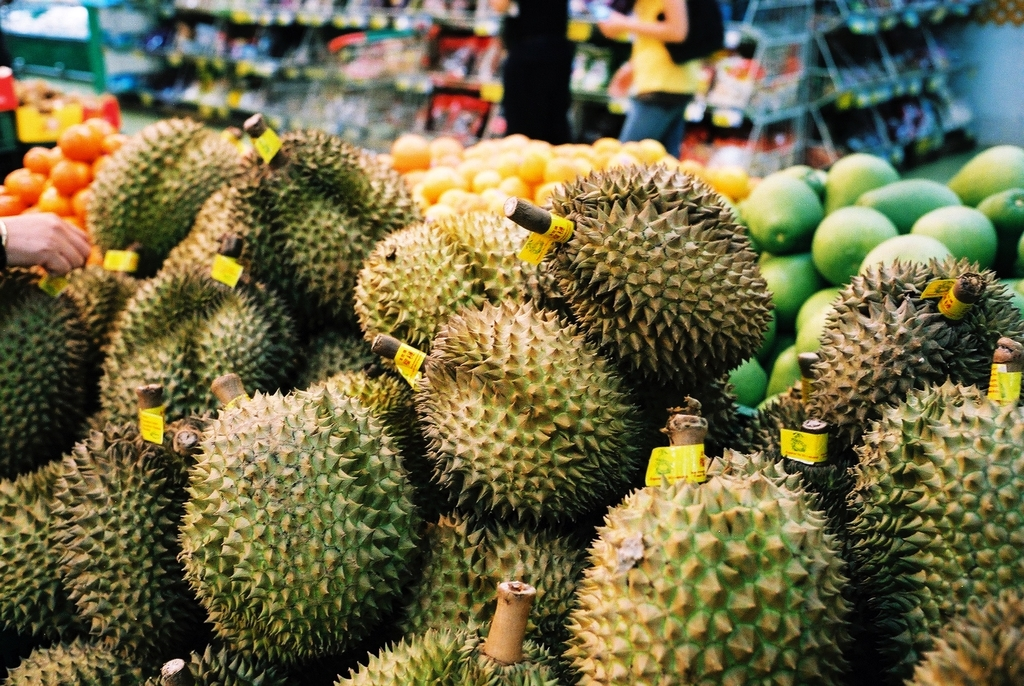person: (593, 0, 730, 156)
